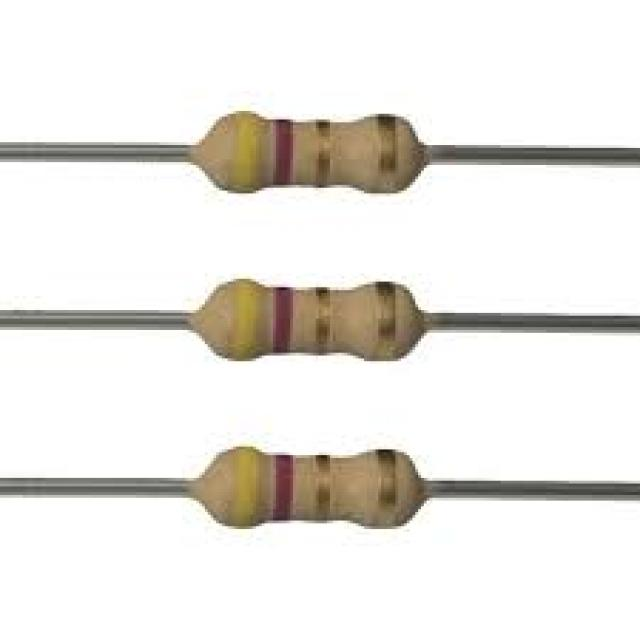Resistor: (189, 110, 433, 193), (186, 446, 432, 528), (188, 279, 430, 360)
